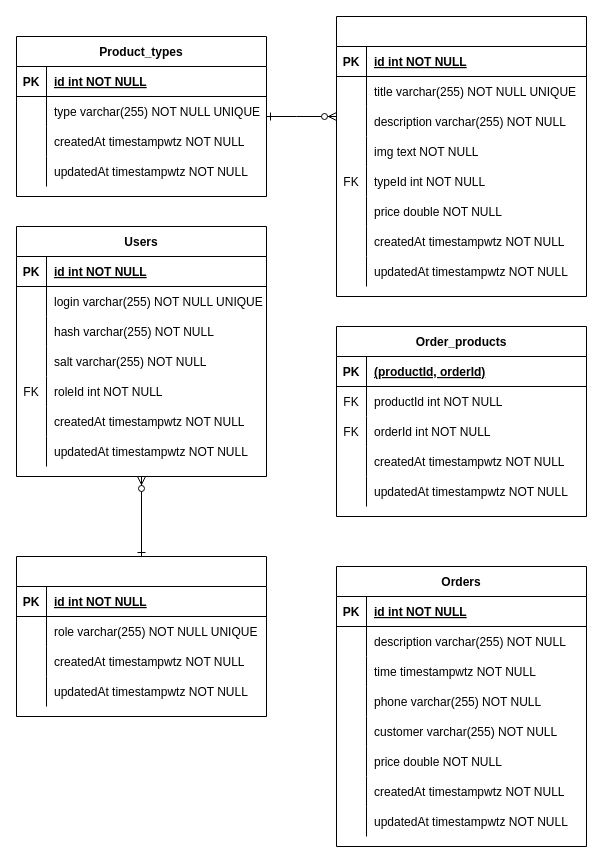
Image size: 603x863. Some labels were removed from this diagram. Each missing label, with the box of its shape:
Products: (336, 16, 586, 296)
Roles: (16, 556, 266, 716)
